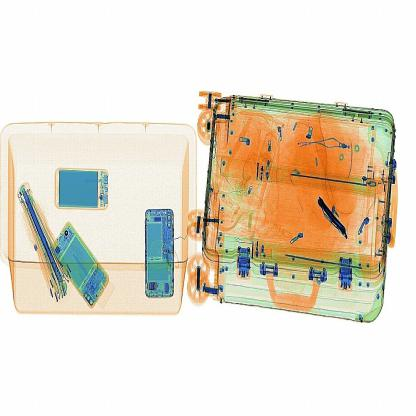knife: (318, 199, 355, 244)
